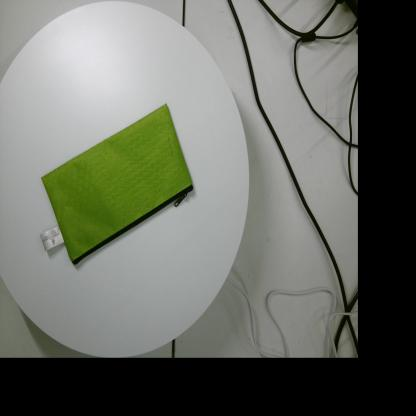Stationery: (40, 103, 193, 265)
